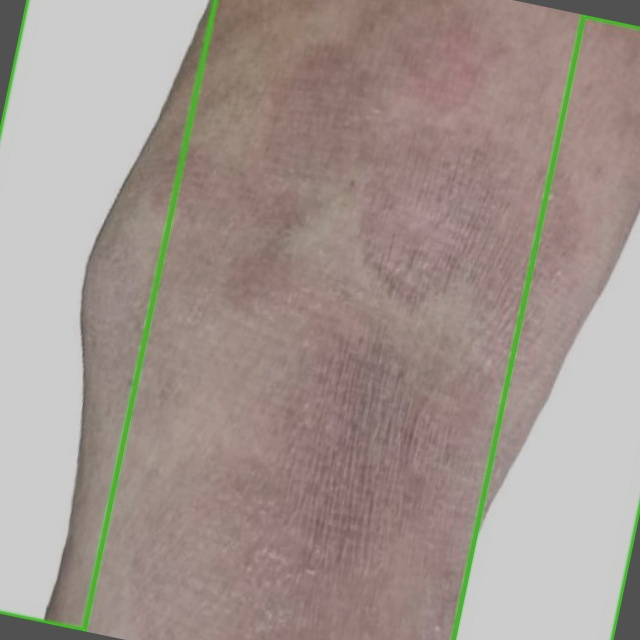Eczema: (0, 0, 215, 630), (454, 15, 639, 639)
